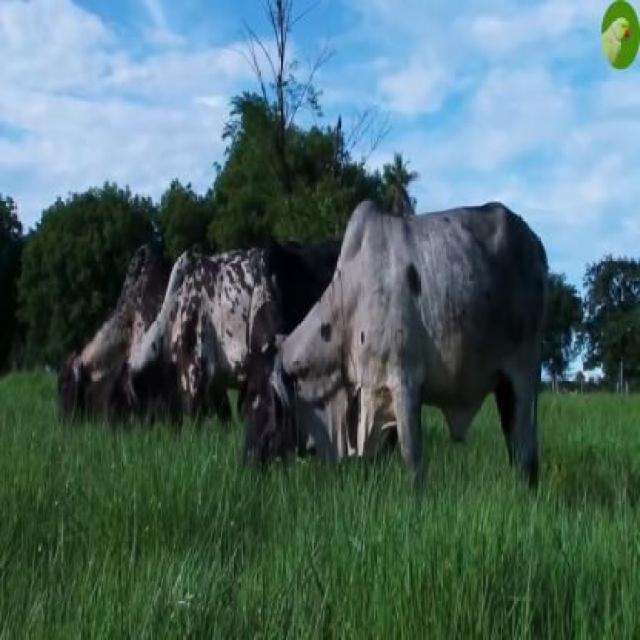Cow: (242, 200, 550, 494)
